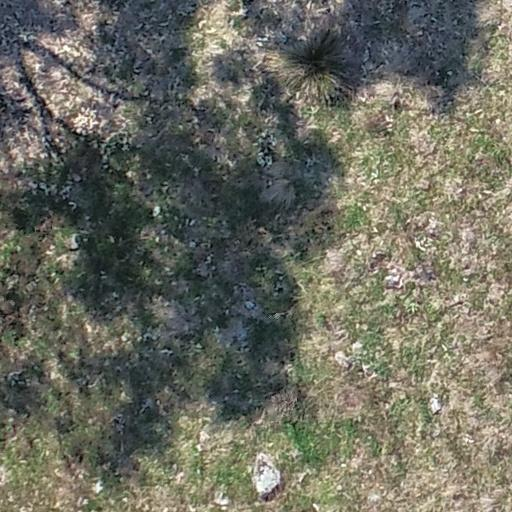stone: (337, 351, 351, 368), (198, 431, 209, 443)
